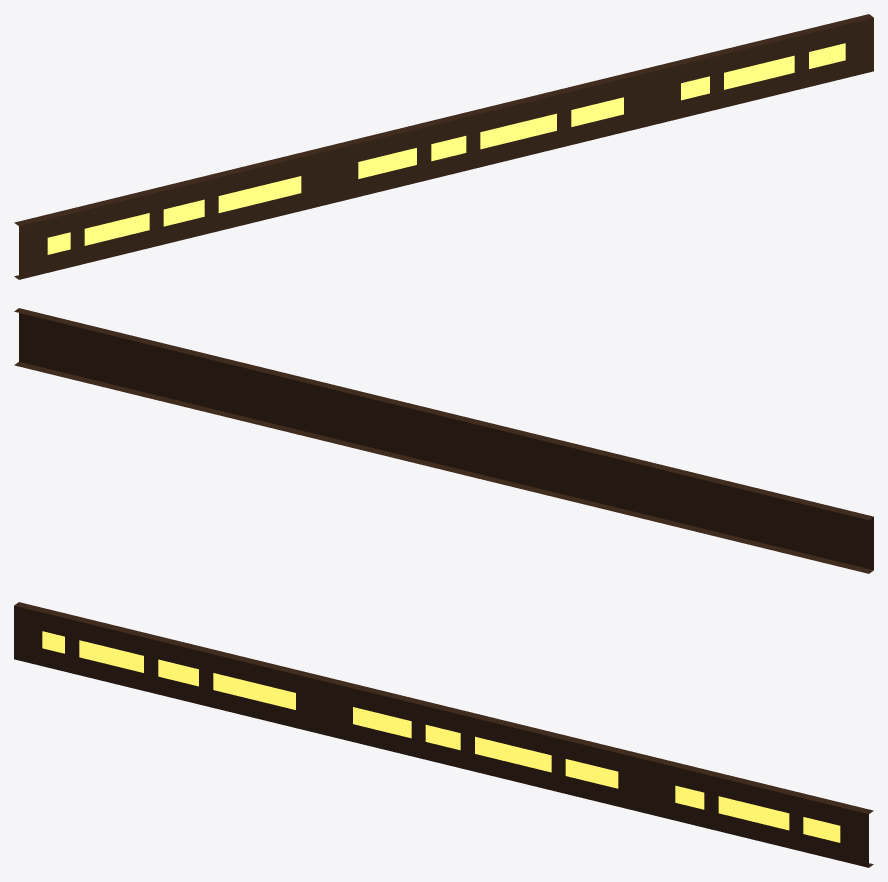
Rendered from ticker_band.glb.
3 renders of one model, top to bottom at view 1: azimuth 30°, elevation 25°; view 2: azimuth 150°, elevation 25°; view 3: azimuth 330°, elevation 25°, orthographic.
Parts seen in each view (by area): view 1: ticker_band; view 2: ticker_band; view 3: ticker_band.
Boxes of the visible parts, left/top/right/bottom form: ticker_band: left=14, top=14, right=873, bottom=279; ticker_band: left=14, top=308, right=873, bottom=573; ticker_band: left=14, top=602, right=873, bottom=867.
Size of the model in its own units: 6 by 0.36 by 0.064.
